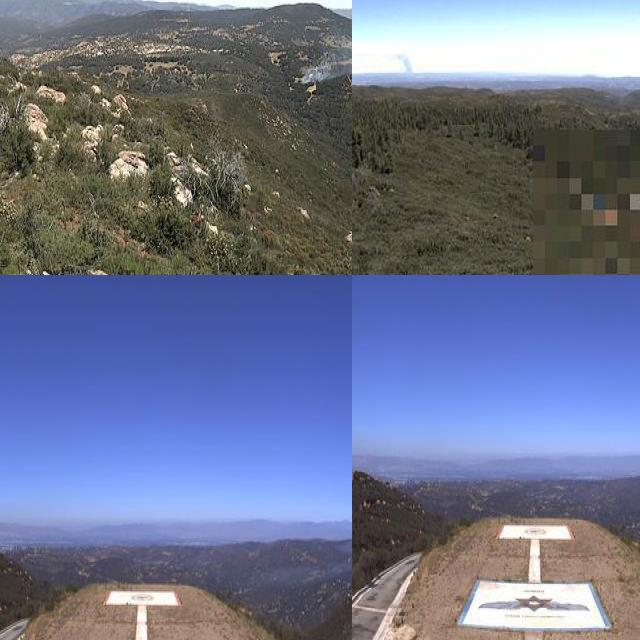smoke: (298, 31, 352, 84), (383, 49, 417, 81)
